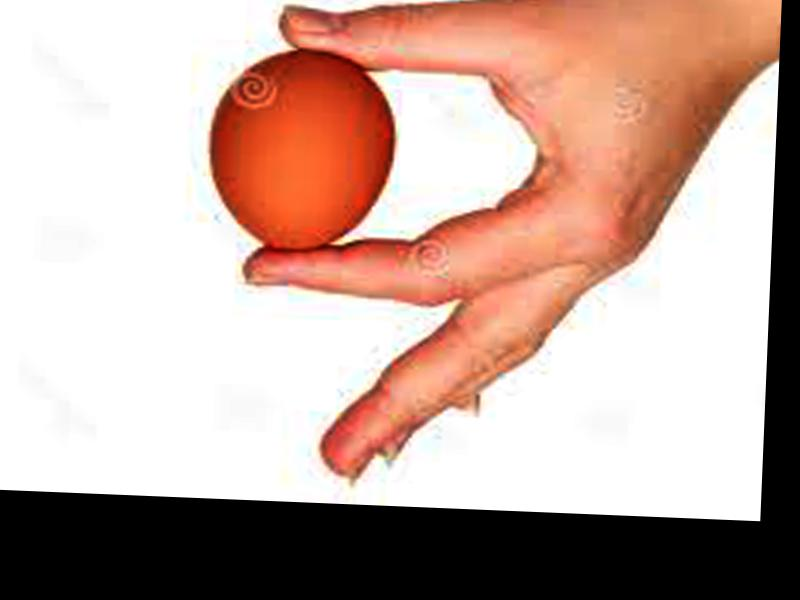Eggs: (203, 44, 401, 255)
